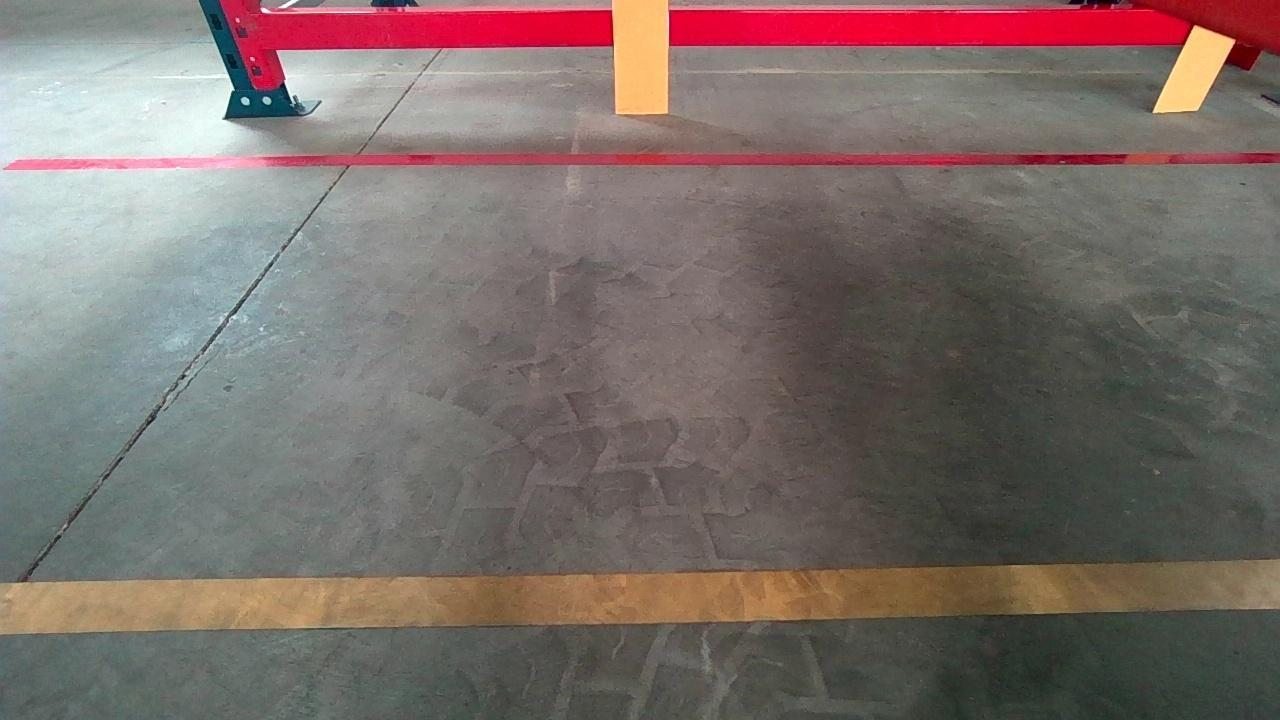h_rack: (260, 0, 1166, 52)
orange_strip: (1154, 23, 1238, 110), (613, 0, 670, 111)
red_line: (25, 148, 1262, 175)
